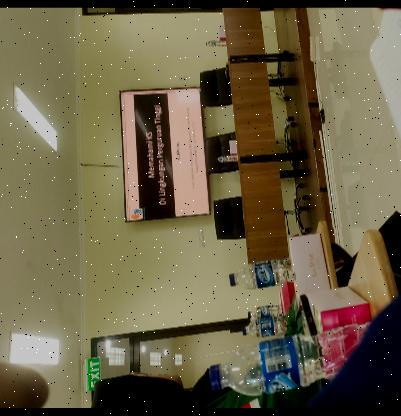Plastic Bottle: (208, 322, 370, 396), (226, 258, 295, 290), (237, 314, 286, 338)
